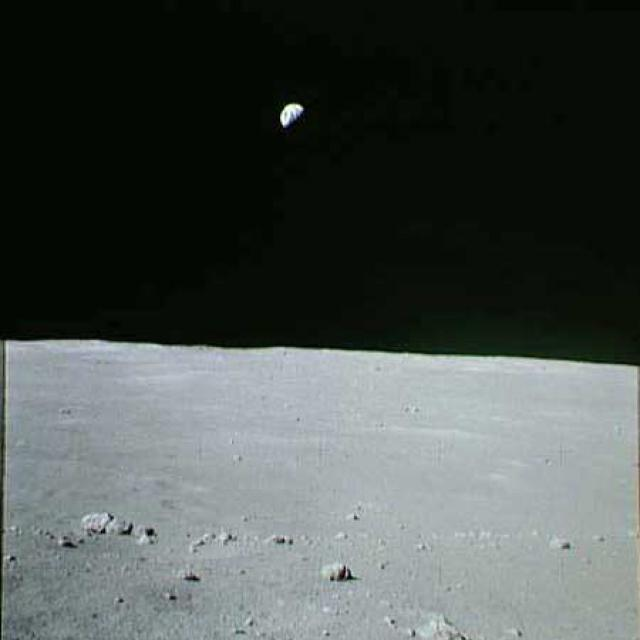rock: (75, 506, 132, 544), (317, 557, 350, 588), (264, 526, 296, 557), (131, 516, 158, 548)
